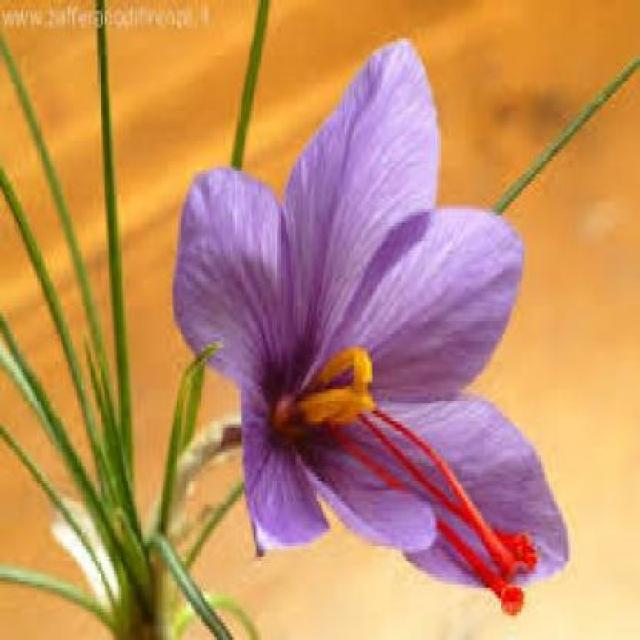Flower: (170, 35, 573, 587)
stigma: (330, 422, 531, 622), (368, 396, 530, 577)
